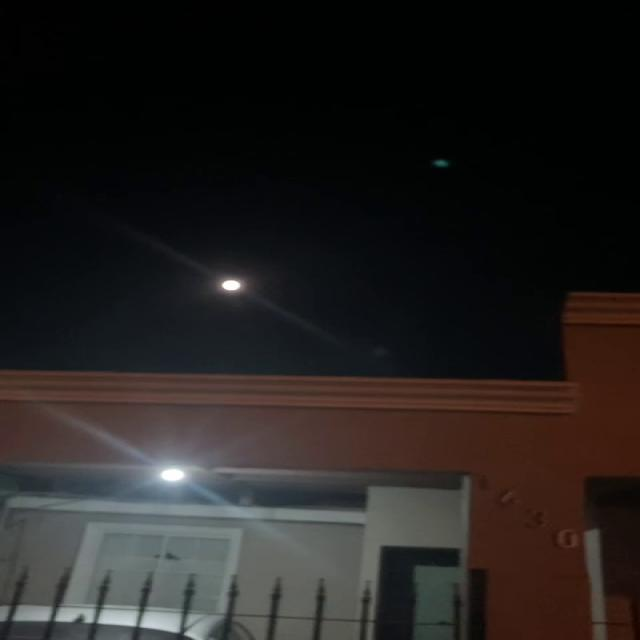moon: (201, 269, 253, 300)
